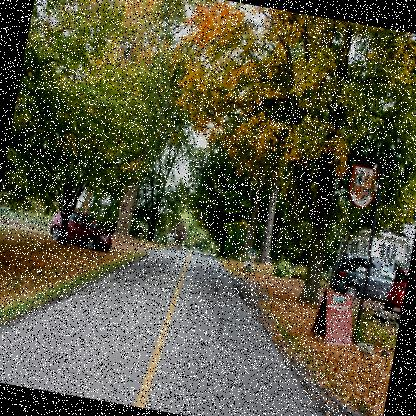Car: (326, 249, 398, 306), (48, 206, 116, 254), (378, 264, 408, 315)
